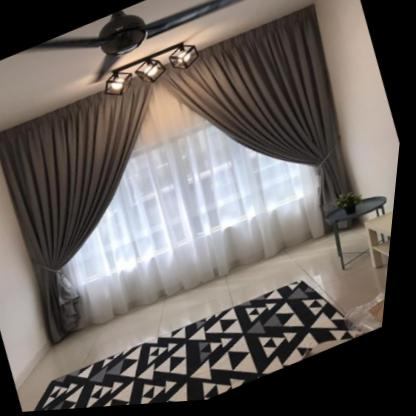Carpet: (40, 285, 380, 412)
Ceramic floor: (24, 240, 393, 413)
Curtains: (0, 9, 351, 346)
